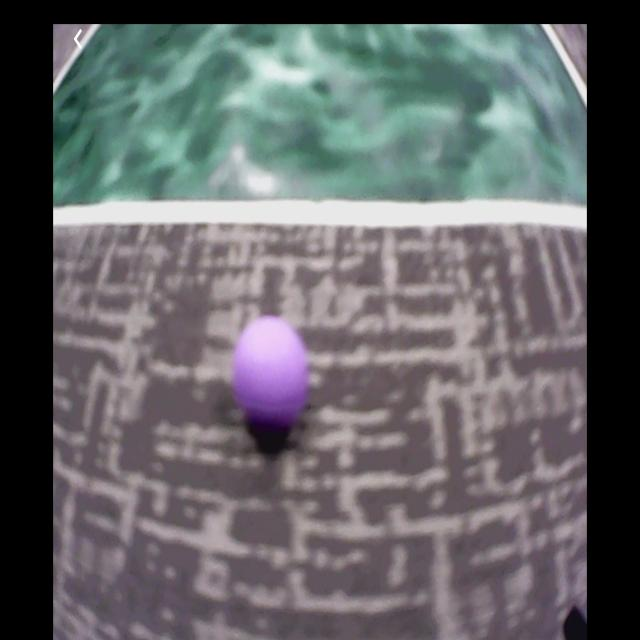ball: (233, 317, 307, 425)
